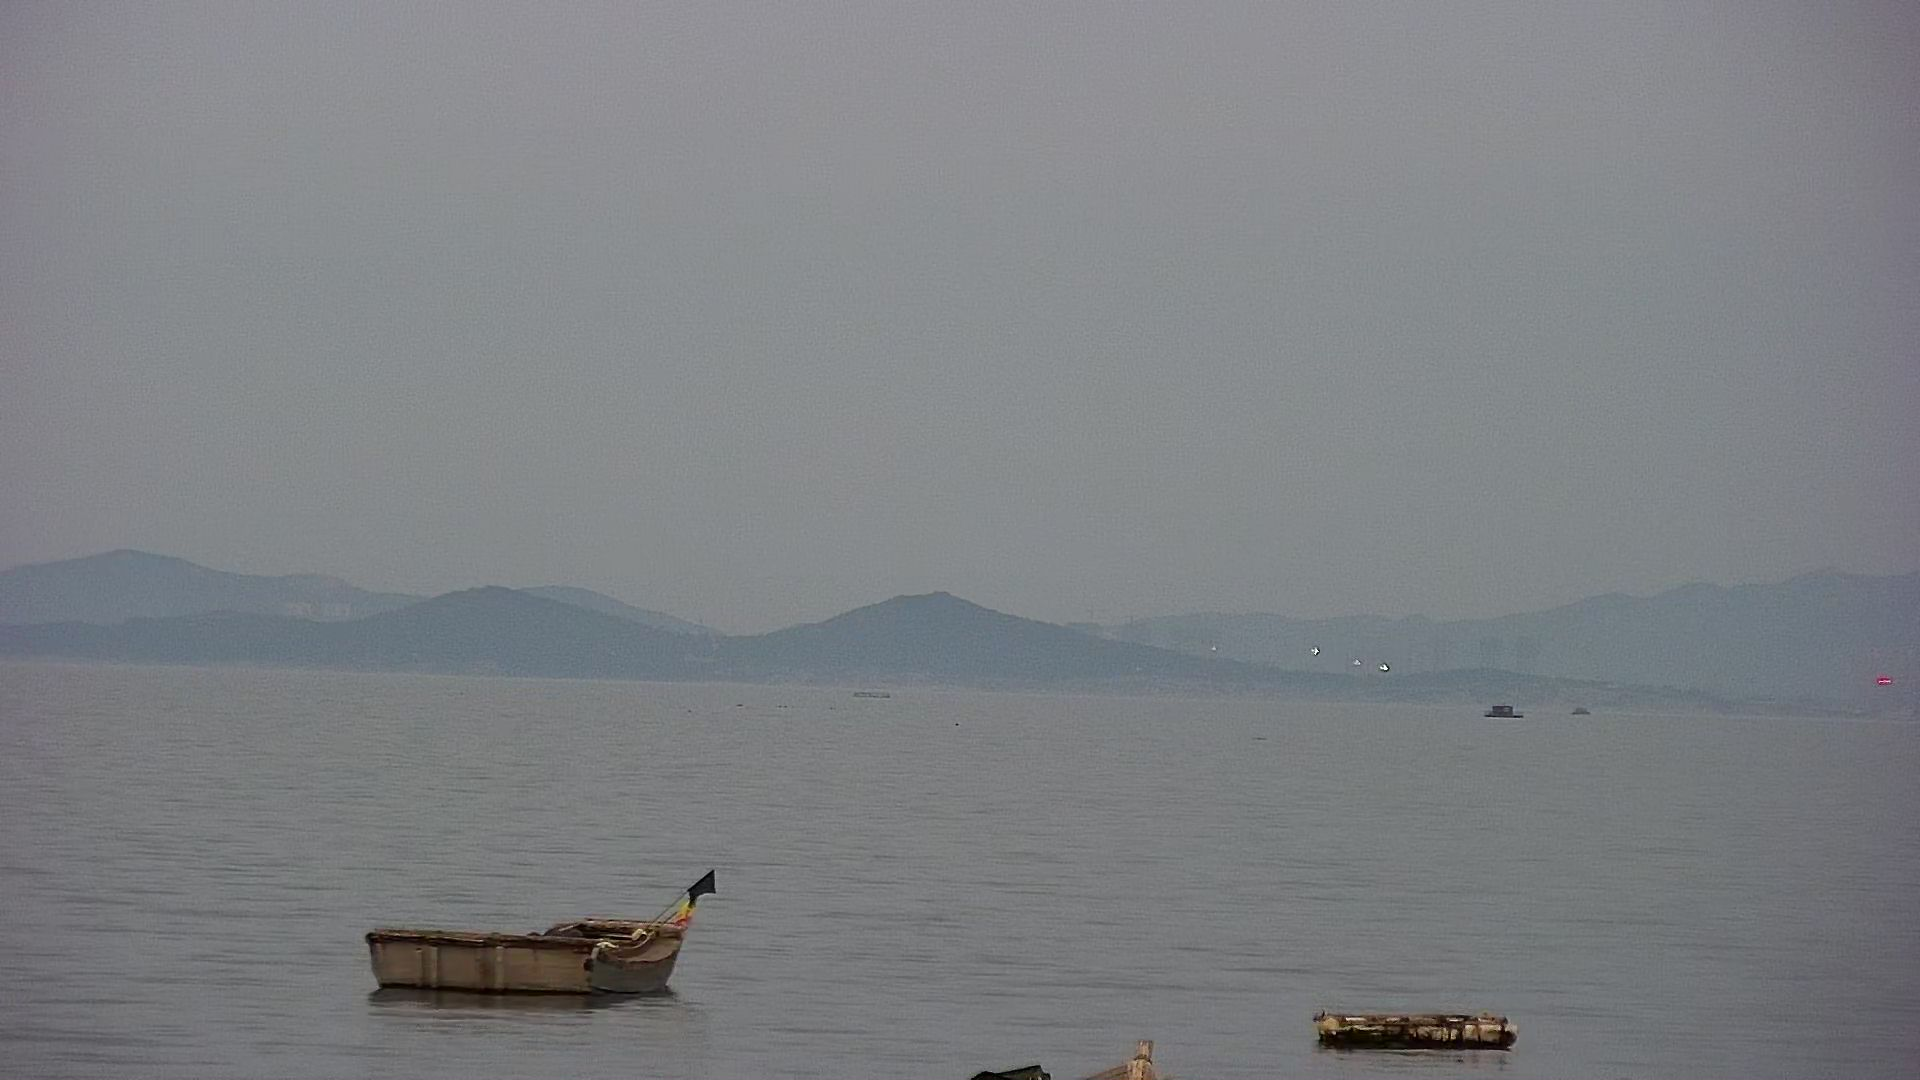boat: (365, 865, 723, 1007)
rubbish: (1294, 1011, 1542, 1052)
